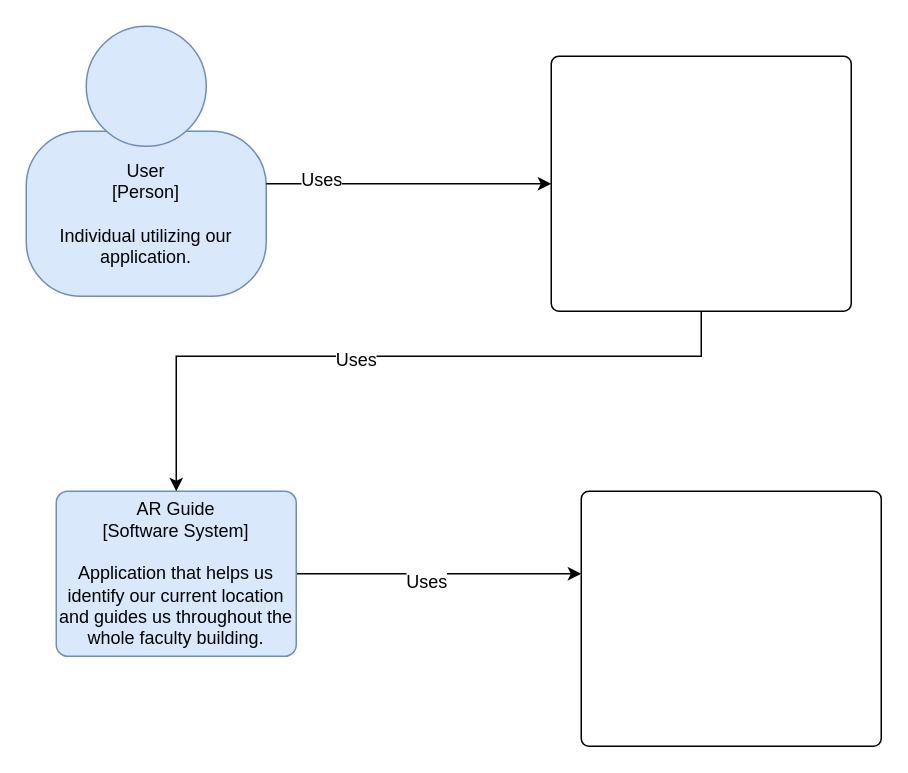
Some shapes in this 908 by 773 pixel diagram are drawn without their labels. The shapes that lost their labels are listed below. From the top down, each one's centre as x and y in pixels, then its label:
At pixel 700 183: "Android Device [applicationAndVersion]".
At pixel 730 618: "Faculty Schedule [applicationAndVersion]".
